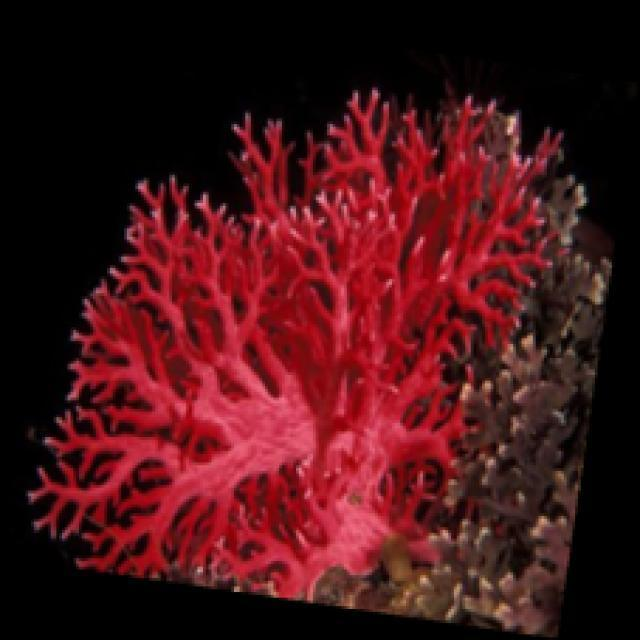Healthy: (28, 89, 574, 604)
